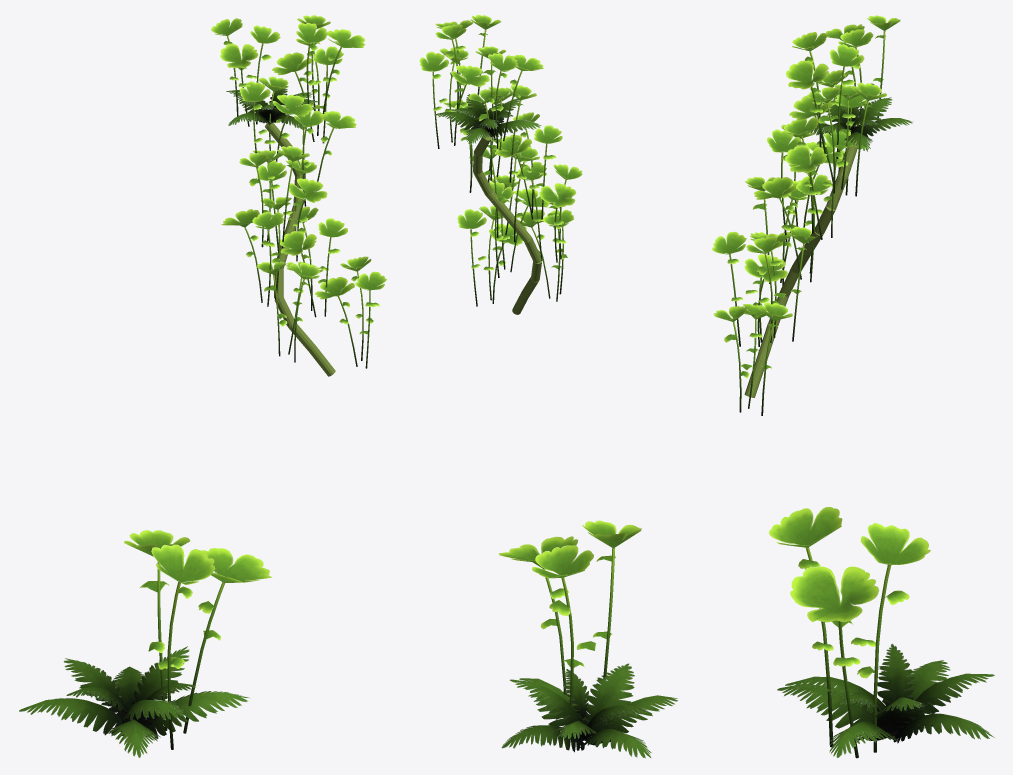
File: Trail_Sign_Greenery.glb
3 views of the same model, side by side, from view 1: azimuth 30°, elevation 25°; view 2: azimuth 150°, elevation 25°; view 3: azimuth 270°, elevation 25° (orthographic). The views are drawn at different scales.
Parts seen in each view (by area): view 1: Patch_01, Patch_00; view 2: Patch_01, Patch_00; view 3: Patch_01, Patch_00.
Part boxes in pixels (x1,y1,x2,y2): Patch_01: (210,15,386,376); Patch_00: (19,530,272,757); Patch_01: (419,14,582,314); Patch_00: (498,520,677,758); Patch_01: (712,15,913,415); Patch_00: (768,507,994,758).
Bounding box in the file's own units: 0.9636 × 2.24 × 0.7432.
Materials: 3 (2 with a texture image).
